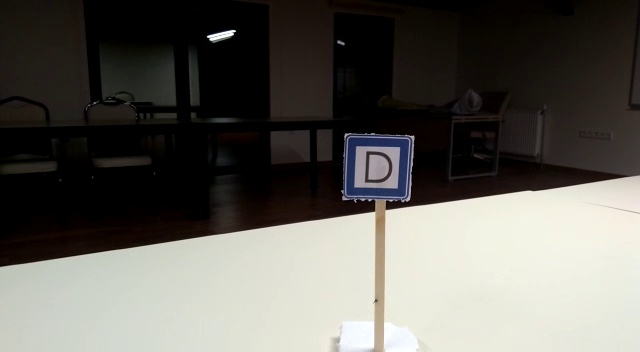durak: (343, 134, 414, 199)
